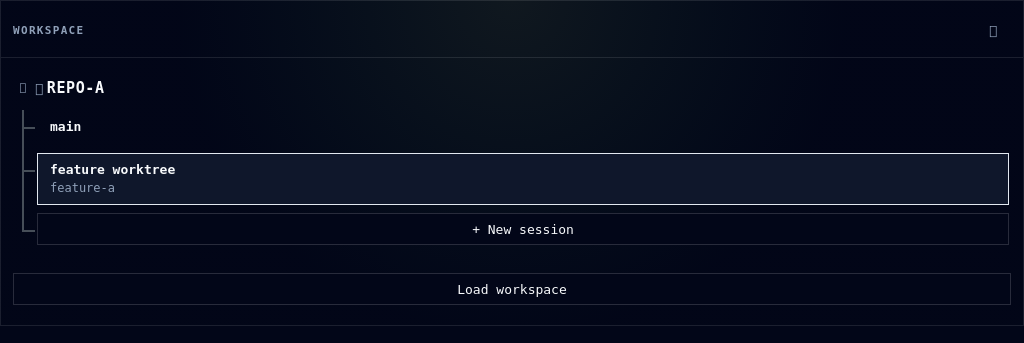
Test: SessionSidebar rename › context menu on the main row shows Rename session but NOT Remove worktree
The image size is (1024, 343).
Right-click the button "main" at (66, 126), box x1=38 y1=111 x2=1008 y2=144
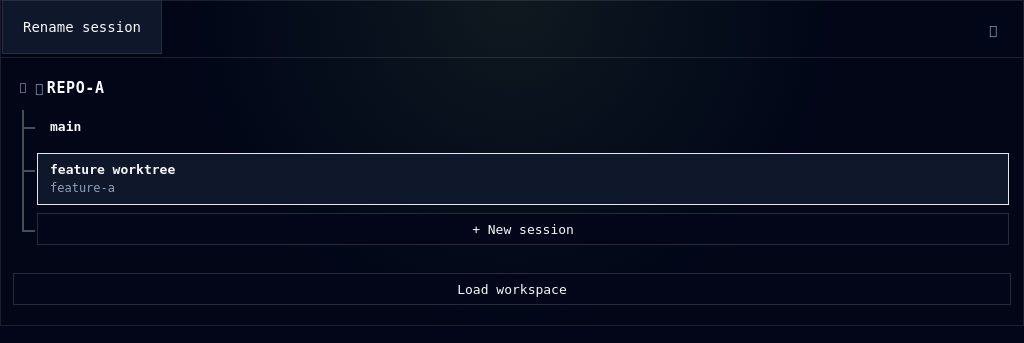
Check: the menu item "Rename session" is shown, box x1=23 y1=19 x2=141 y2=35
